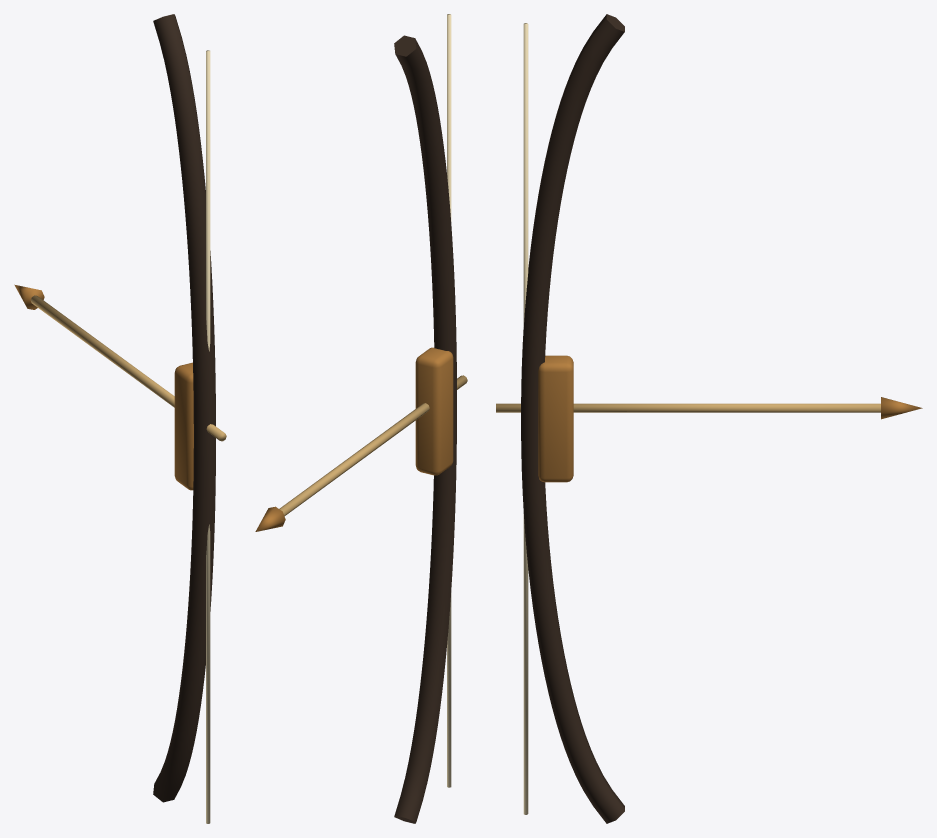
File: bow.glb
3 renders of one model, left to right at view 1: azimuth 30°, elevation 25°; view 2: azimuth 150°, elevation 25°; view 3: azimuth 270°, elevation 25°, orthographic. The views are drawn at different scales.
Parts seen in each view (by area): view 1: Limb, Str, Riser, Arrow; view 2: Limb, Riser, Arrow, Str, Head; view 3: Limb, Riser, Arrow, Str.
Boxes of the visible parts, box(x1,y1,x2,y2) form: Limb: box(153, 14, 215, 802); Str: box(206, 50, 210, 823); Riser: box(174, 362, 193, 490); Arrow: box(30, 295, 226, 441); Limb: box(394, 35, 456, 823); Riser: box(415, 347, 453, 475); Arrow: box(279, 375, 467, 516); Str: box(447, 14, 451, 787); Head: box(255, 506, 285, 531); Limb: box(521, 14, 624, 823); Riser: box(538, 355, 573, 482); Arrow: box(496, 403, 880, 412); Str: box(523, 23, 528, 814).
Bounding box in the file's own units: 0.05 × 1.49 × 0.715.
